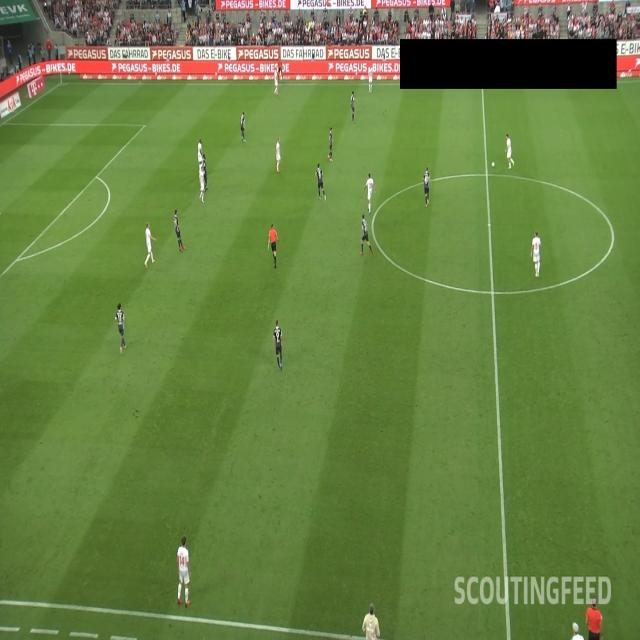ball: (491, 161, 496, 168)
